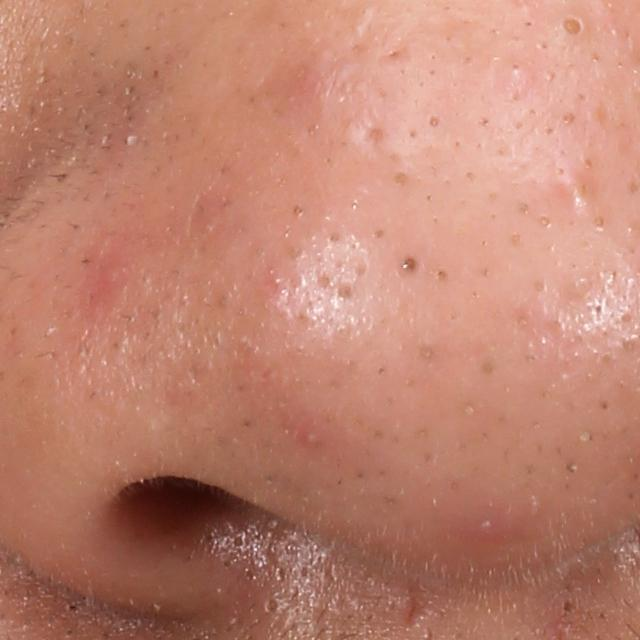atrophic_scar: (403, 591, 424, 632), (365, 125, 387, 144)
comedo: (554, 11, 588, 40), (260, 595, 284, 621), (559, 595, 581, 622), (396, 255, 421, 276), (426, 110, 444, 131)
